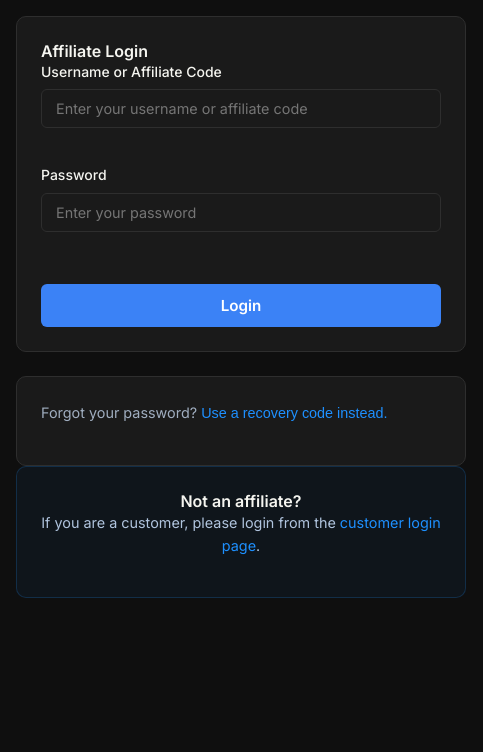
Scenario: affiliate.jsx — Affiliate Login Page › password recovery flow › shows step 3 success state after successful password reset
The width and height of the screenshot is (483, 752).
Click the button "Use a recovery code instead." at (294, 413), box [201,405,388,421]
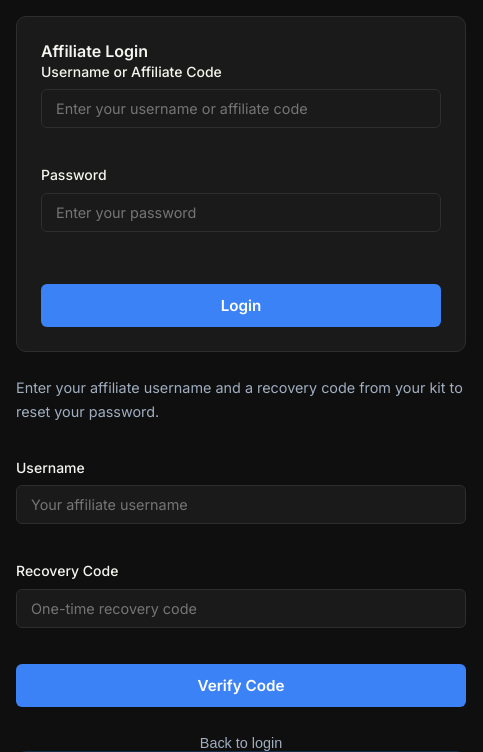
Type "affiliateuser" into the field with placeholder "Your affiliate username" at (241, 505), box [16,485,466,524]
Type "RECOVERY123" into the field with placeholder "One-time recovery code" at (241, 608), box [16,588,466,628]
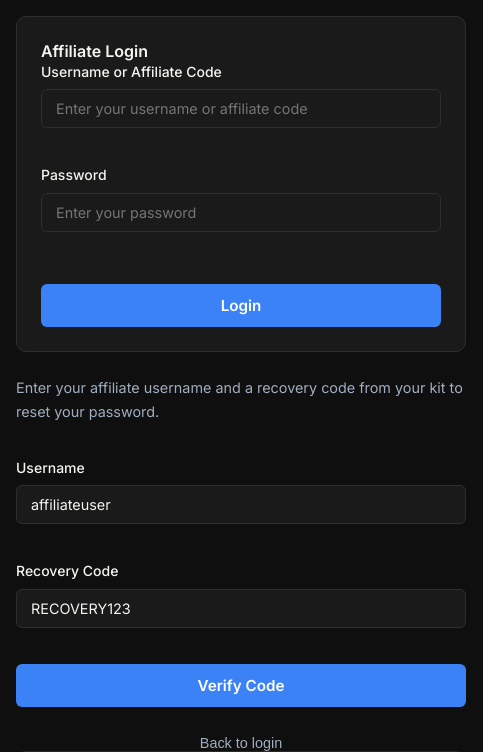
Click the button "Verify Code" at (241, 685), box [16,664,466,706]
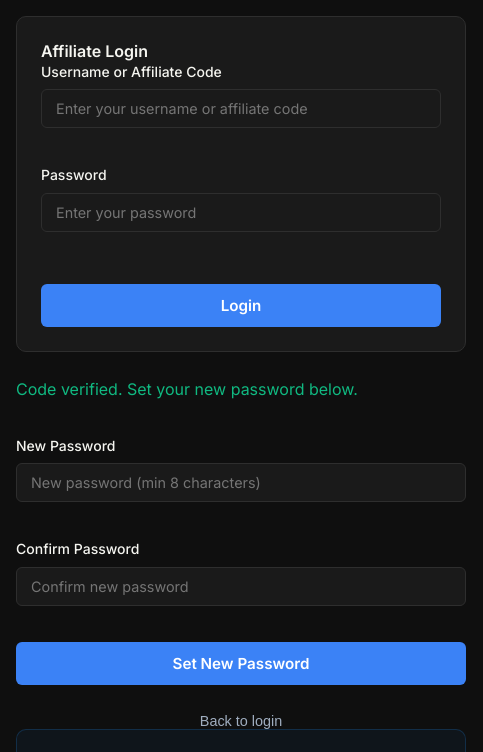
Check: the password field with placeholder "New password (min 8 characters)" is shown
Type "newpass123" into the password field with placeholder "New password (min 8 characters)" at (241, 483), box [16,463,466,502]
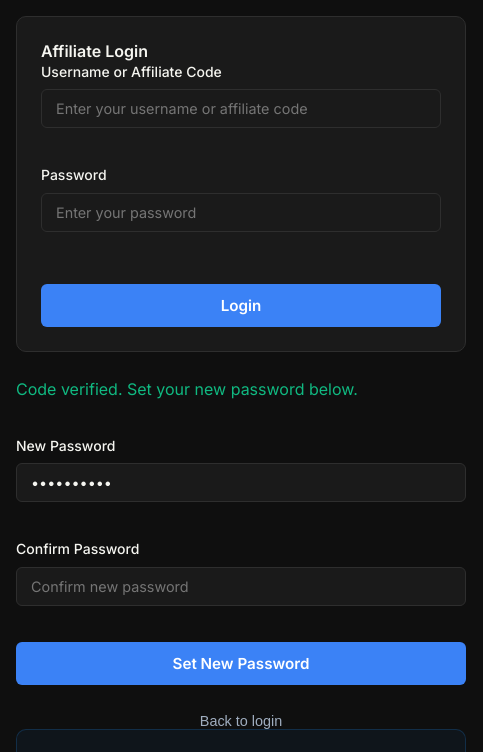
Type "newpass123" into the password field with placeholder "Confirm new password" at (241, 586), box [16,567,466,606]
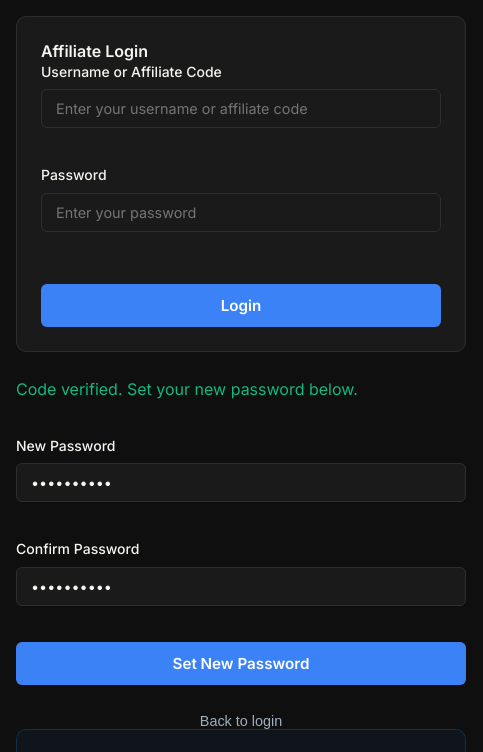
Click the button "Set New Password" at (241, 663), box [16,642,466,685]
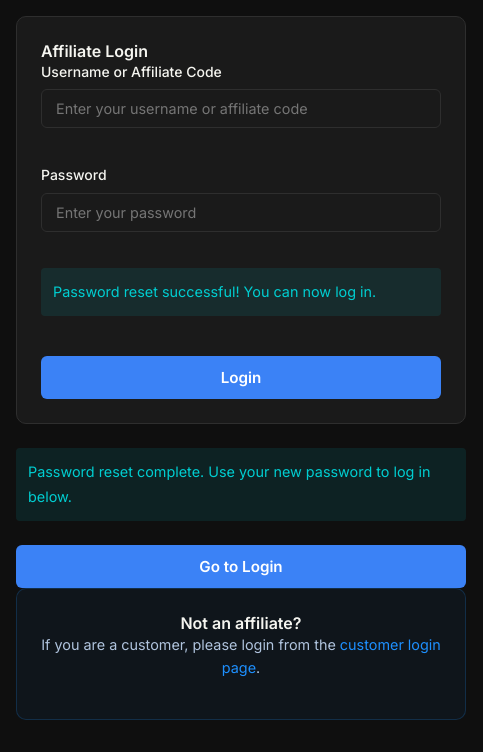
Check: the text "Password reset complete" is shown, box [28,463,430,505]
